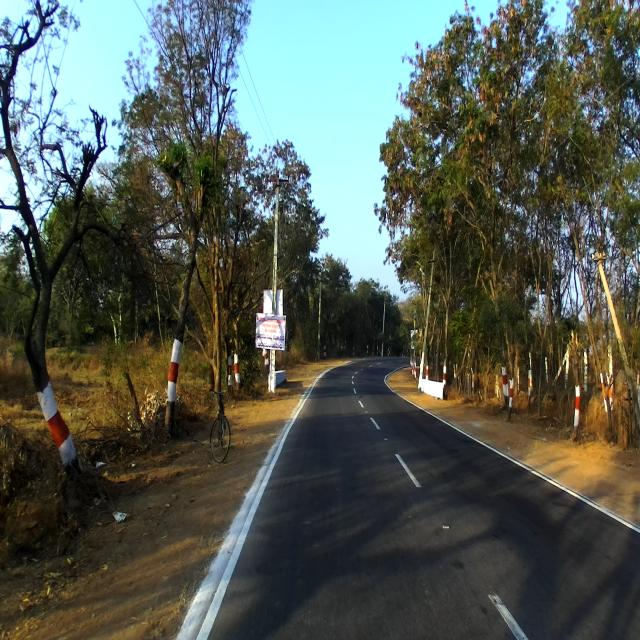bicycle ahead at: (210, 382, 236, 460)
electric pole ahead at: (260, 161, 296, 394)
tree ahead at: (5, 82, 90, 498), (149, 123, 204, 447)
